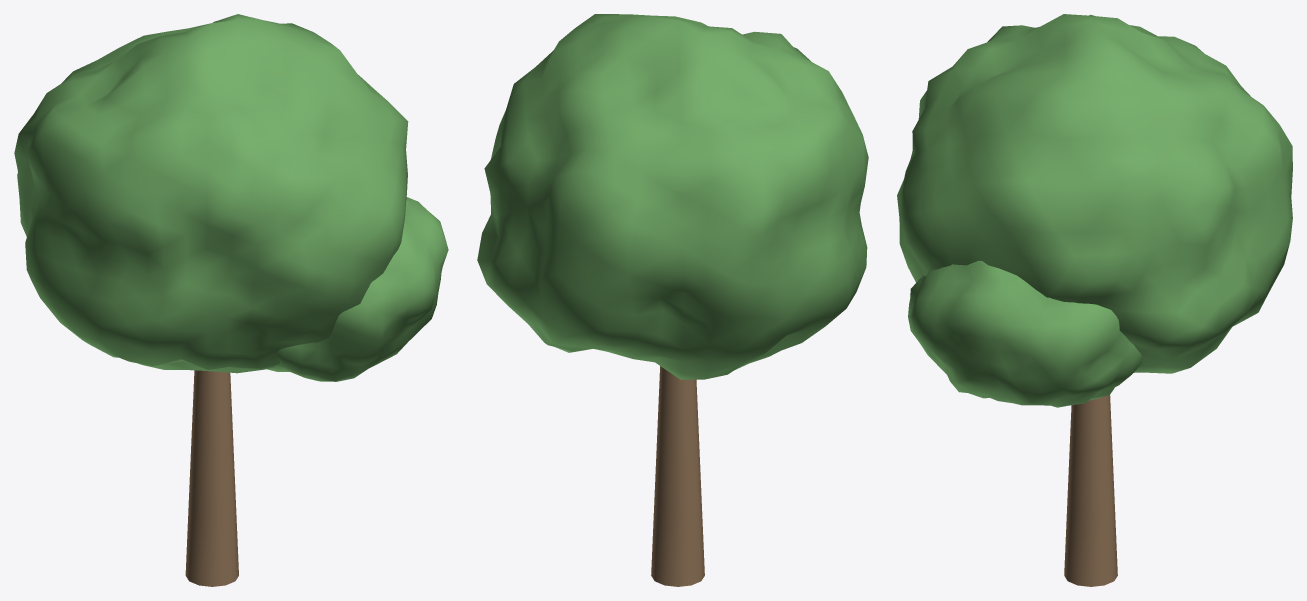
Rendered from tree.glb.
3 views of the same model, side by side, from view 1: azimuth 30°, elevation 25°; view 2: azimuth 150°, elevation 25°; view 3: azimuth 270°, elevation 25° (orthographic).
Visible parts, largest first — view 1: Tree; view 2: Tree; view 3: Tree.
Part boxes in pixels (box(x1,y1,x2,y2)): Tree: box(14, 14, 448, 586); Tree: box(477, 14, 868, 586); Tree: box(897, 14, 1292, 586).
Bounding box in the file's own units: 2.49 × 3.65 × 2.36.
